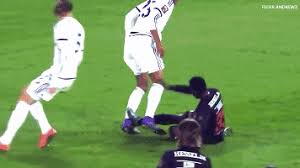fall: (127, 71, 235, 145)
